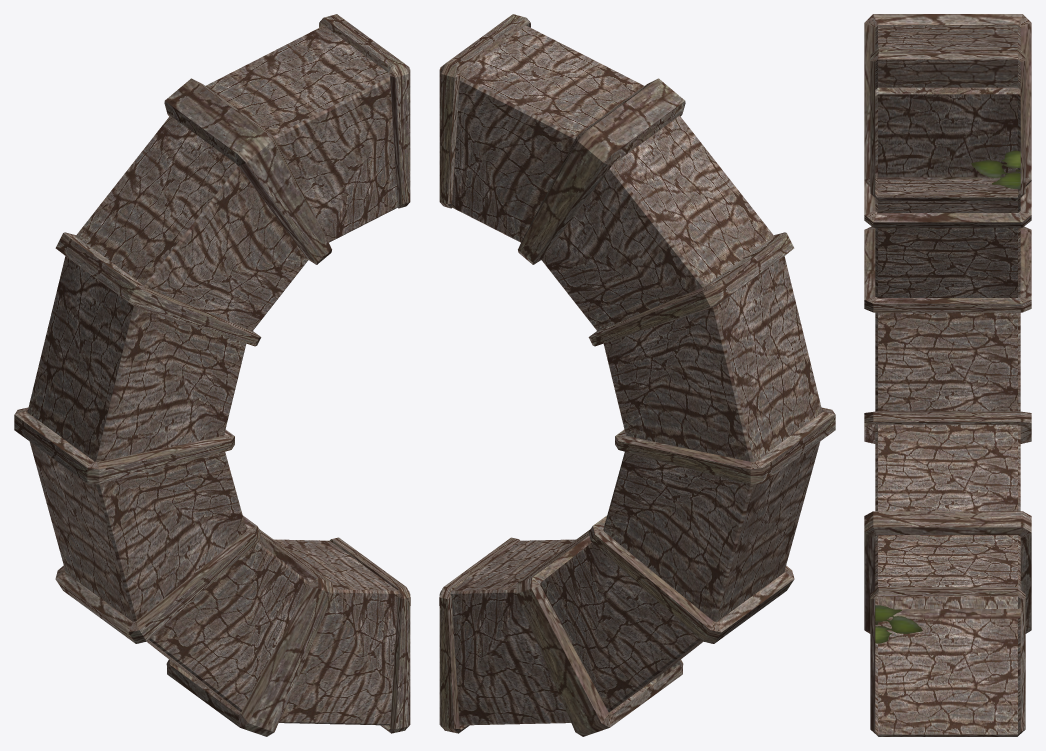
The model's file is vent_180.FBX.
The picture shows the model from 3 angles, left to right: view 1: azimuth 30°, elevation 25°; view 2: azimuth 150°, elevation 25°; view 3: azimuth 270°, elevation 25°; orthographic projection. The views are drawn at different scales.
Parts seen in each view (by area): view 1: vent_180; view 2: vent_180; view 3: vent_180.
Part boxes in pixels (x1,y1,x2,y2): vent_180: [14, 14, 410, 736]; vent_180: [439, 14, 835, 736]; vent_180: [864, 14, 1031, 736].
Bounding box in the file's own units: 2.6 × 1.14 × 5.12.
